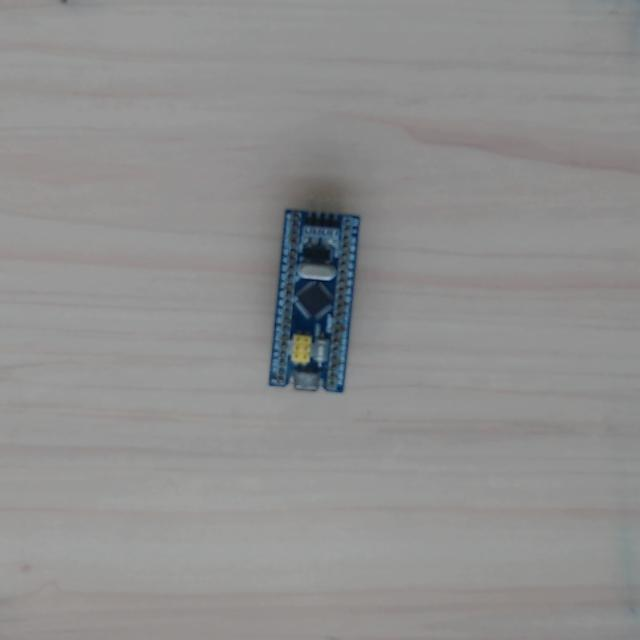STM32-Bluepill: (268, 208, 361, 394)
